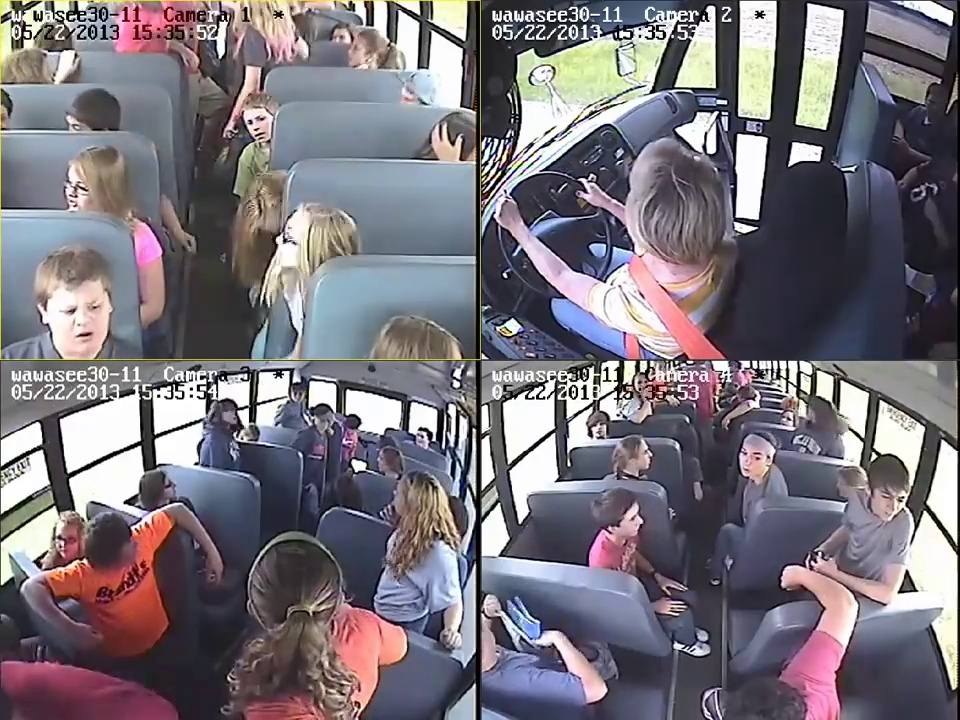face: (44, 294, 109, 351), (273, 219, 312, 266), (63, 156, 97, 208), (876, 484, 908, 523), (52, 523, 80, 559), (613, 507, 644, 537), (244, 105, 270, 139), (739, 447, 768, 476), (351, 38, 370, 62), (332, 22, 351, 42), (591, 418, 607, 435), (292, 388, 304, 401), (416, 432, 427, 444)
